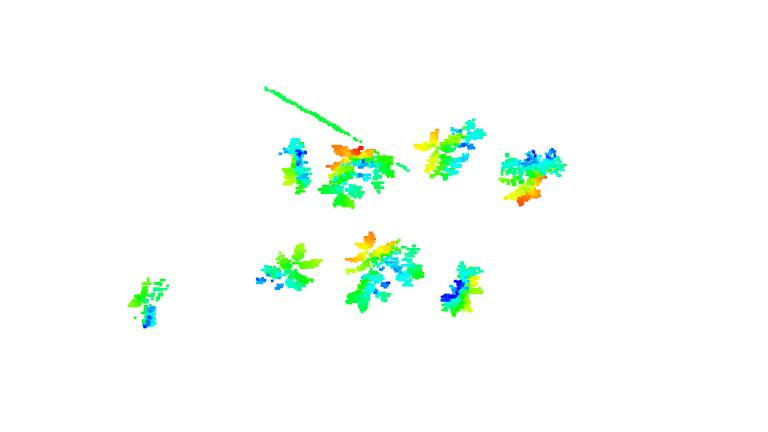chickpea: (341, 231, 426, 315), (318, 145, 400, 210), (497, 144, 569, 210), (415, 117, 487, 182), (253, 242, 326, 293), (438, 259, 486, 320), (125, 275, 173, 330), (278, 137, 316, 196)
